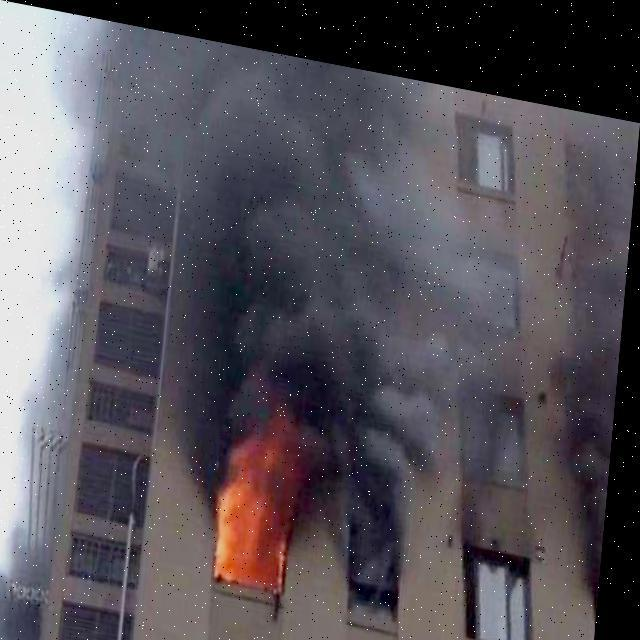Fire: (210, 398, 310, 584)
